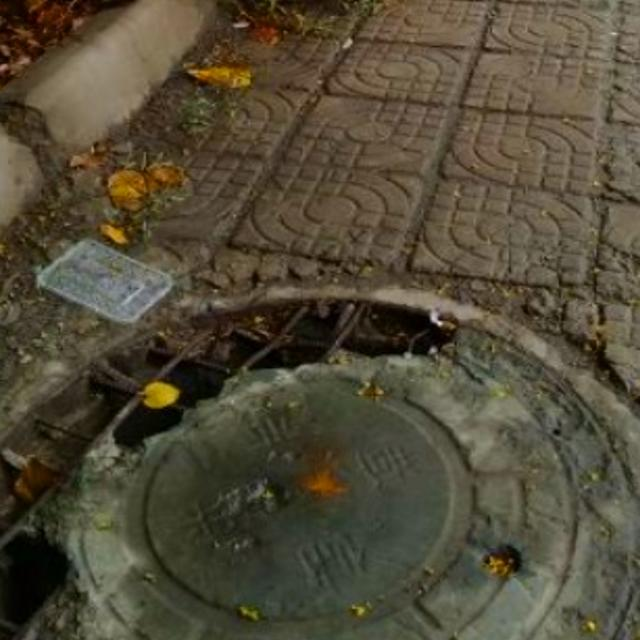broke: (0, 280, 640, 640)
